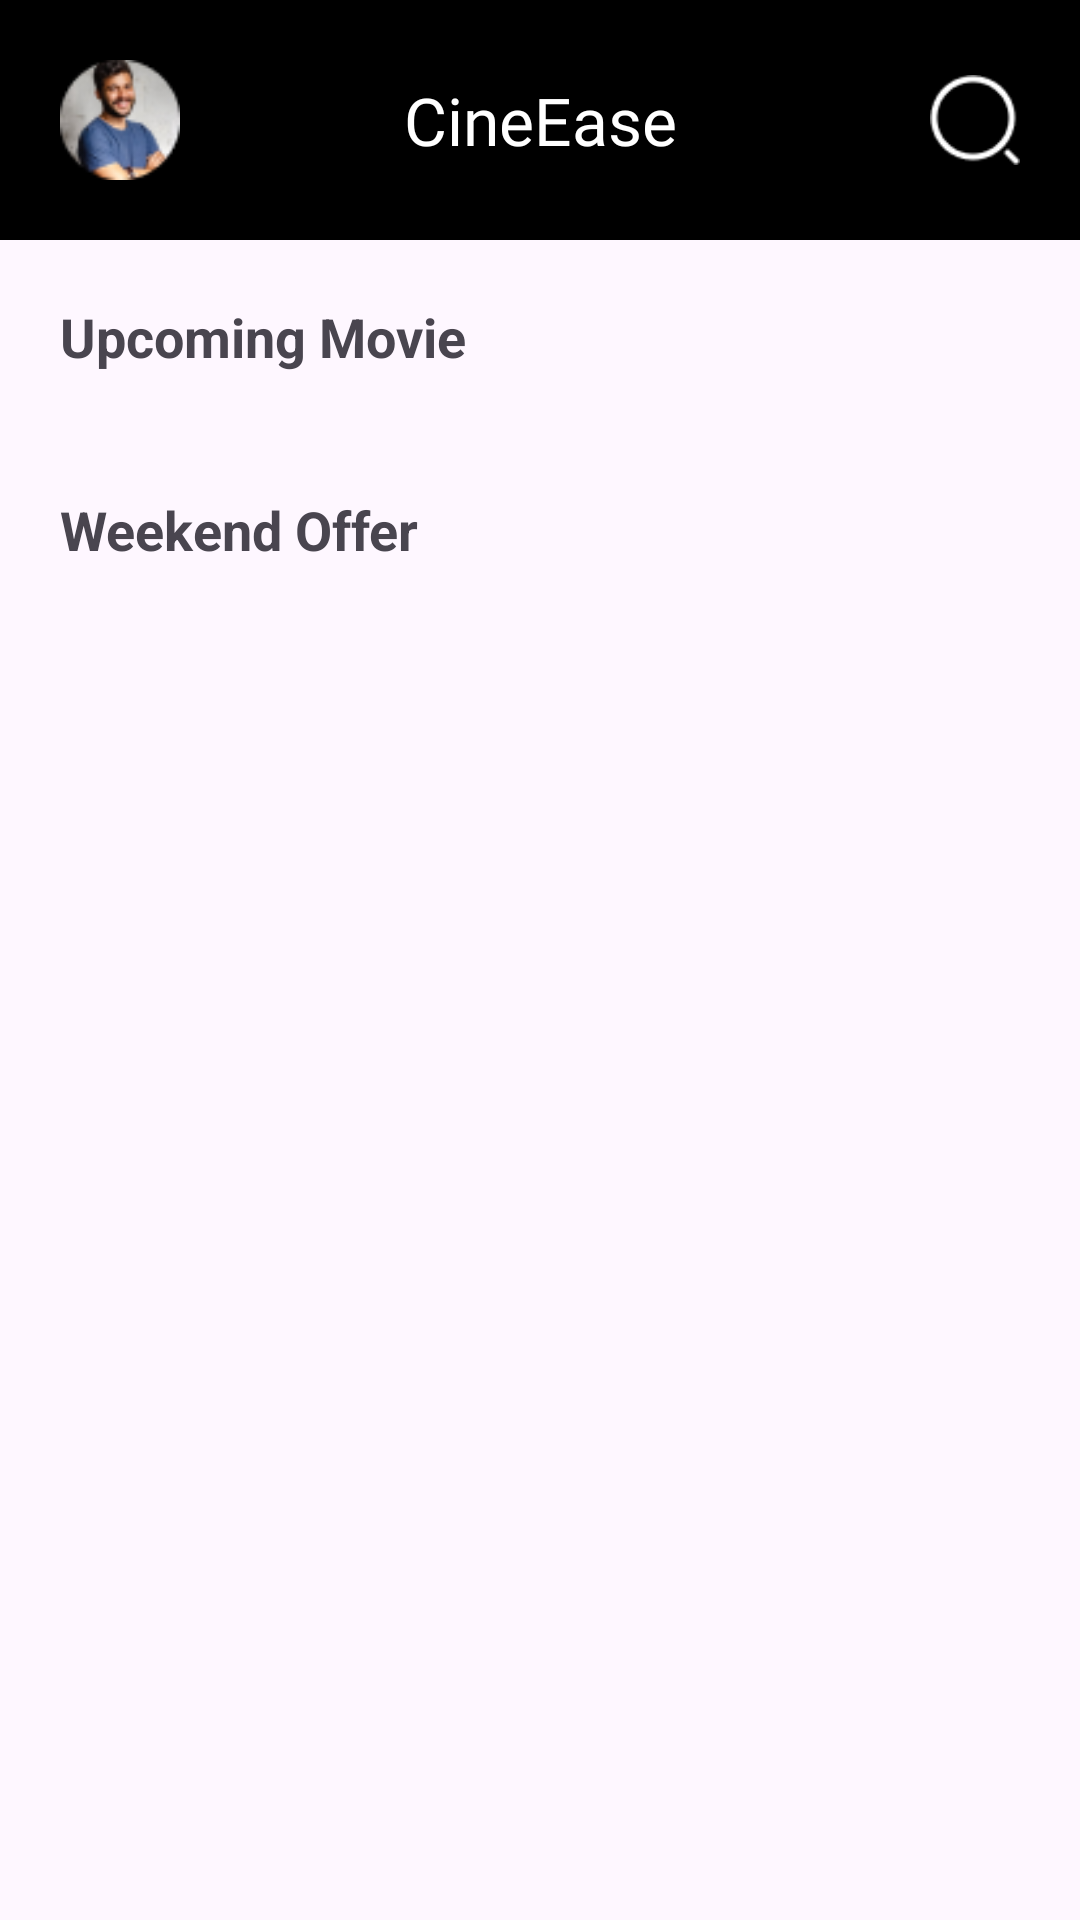

Named icons in this screenshot (1080px×1920px) and their bounding boxes, (x1, y1, x2, y2):
profile: (60, 60, 180, 180)
search: (930, 75, 1020, 165)
